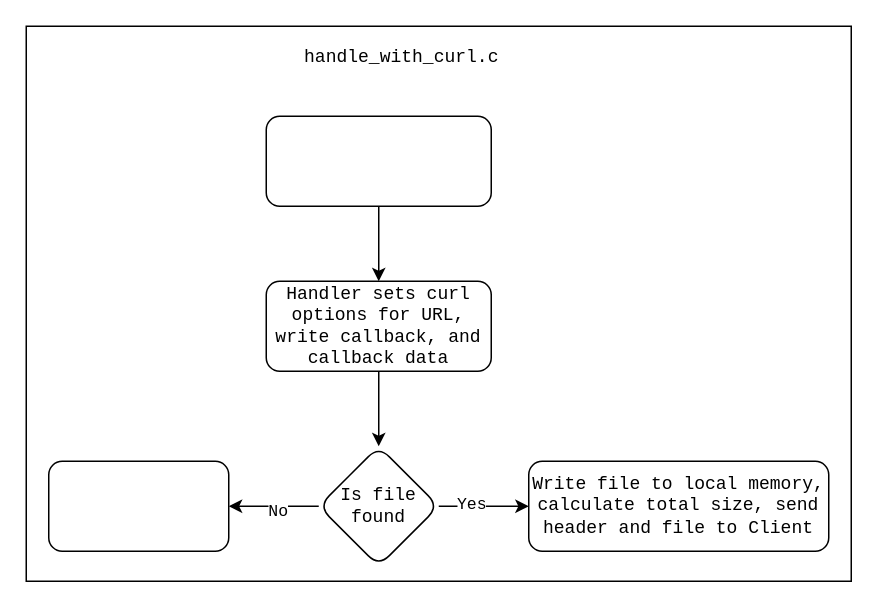
This 878x608 diagram has some shape labels left out. The centre of each missing label's shape, as x and y in pixels:
Handler is invoked by the proxy server: point 378,160
Send file_not_found response to Client: point 138,505
